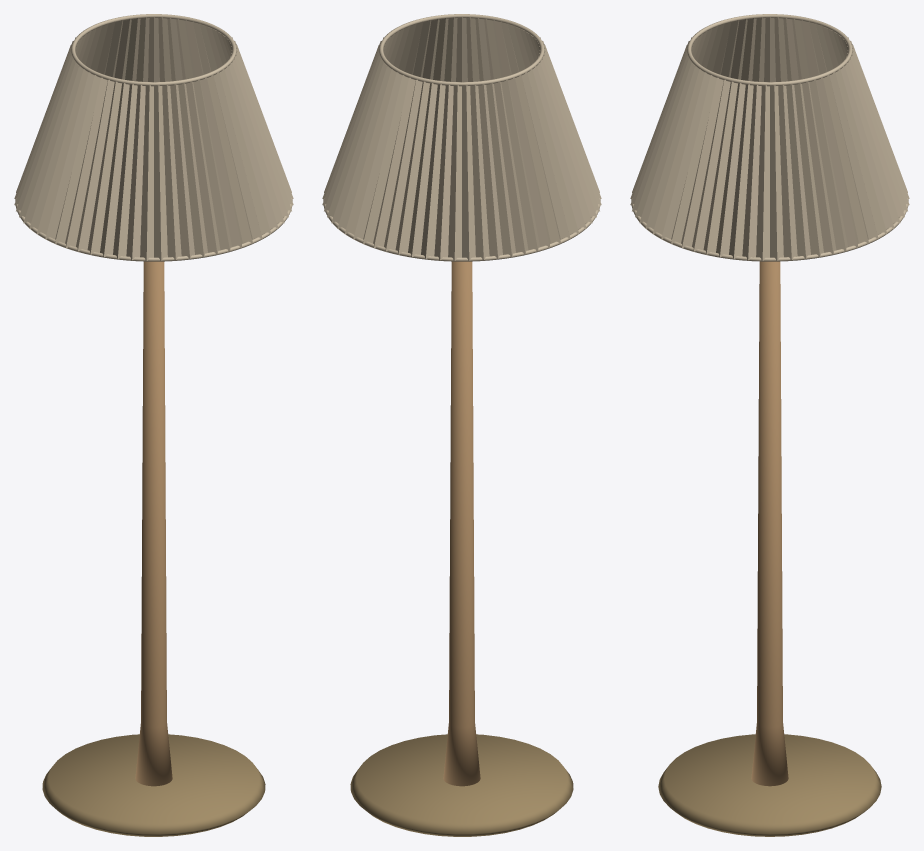
The model's file is reading-lamp.glb.
3 views of the same model, side by side, from view 1: azimuth 30°, elevation 25°; view 2: azimuth 150°, elevation 25°; view 3: azimuth 270°, elevation 25° (orthographic).
Parts seen in each view (by area): view 1: Mood linen oat, Mood aged brass, Mood oak board; view 2: Mood linen oat, Mood aged brass, Mood oak board; view 3: Mood linen oat, Mood aged brass, Mood oak board.
Part boxes in pixels (left/top/right/bottom): Mood linen oat: left=14, top=14, right=293, bottom=261; Mood aged brass: left=42, top=734, right=265, bottom=836; Mood oak board: left=135, top=261, right=172, bottom=786; Mood linen oat: left=322, top=14, right=601, bottom=261; Mood aged brass: left=350, top=734, right=573, bottom=836; Mood oak board: left=443, top=261, right=480, bottom=786; Mood linen oat: left=630, top=14, right=909, bottom=261; Mood aged brass: left=658, top=734, right=881, bottom=836; Mood oak board: left=751, top=261, right=788, bottom=786.
Bounding box in the file's own units: 0.4504 × 1.32 × 0.4504.
